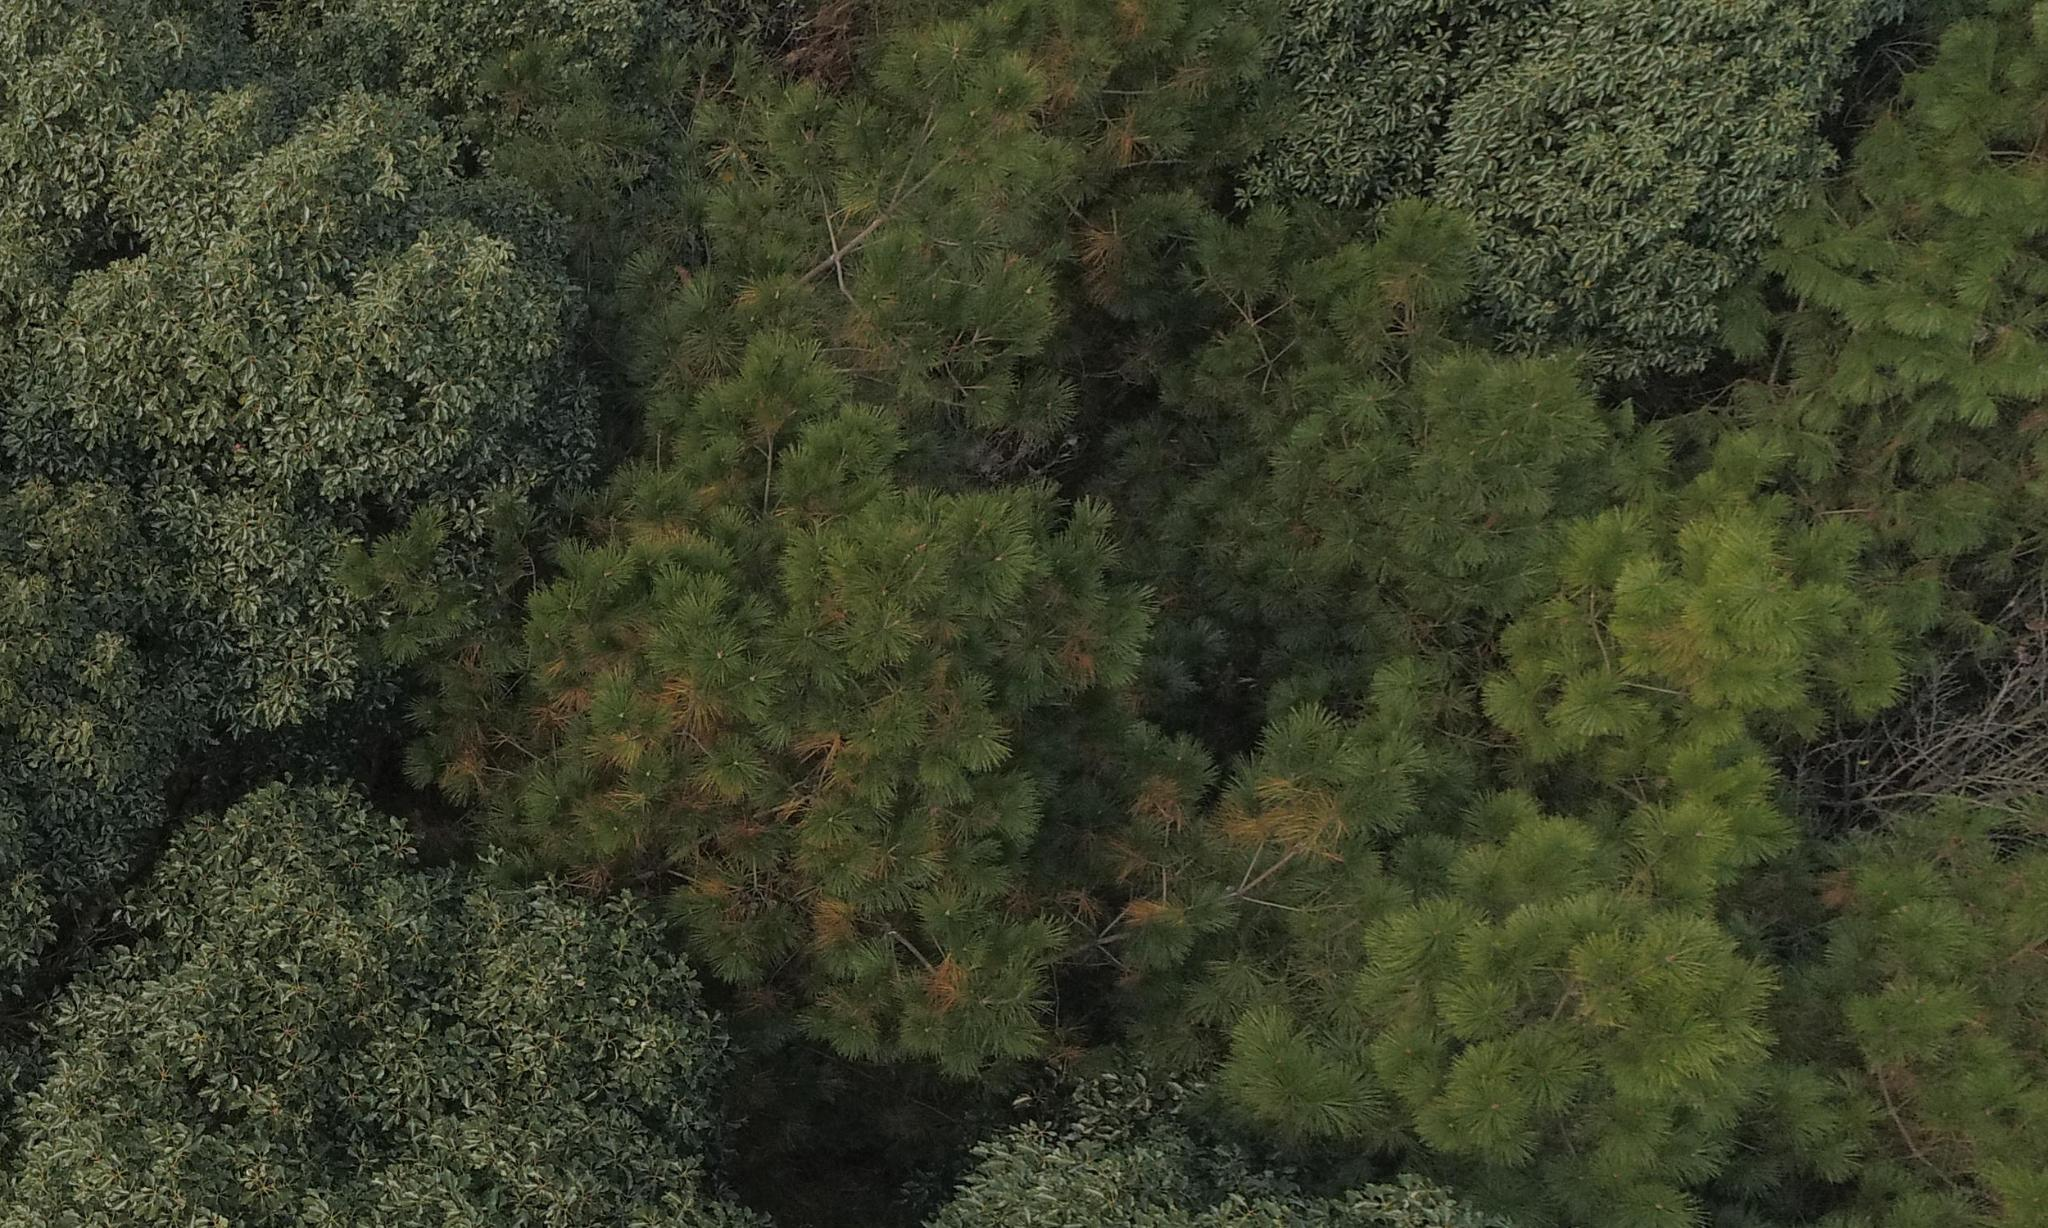heavy: (463, 474, 1278, 1091)
light: (721, 18, 1200, 367)
